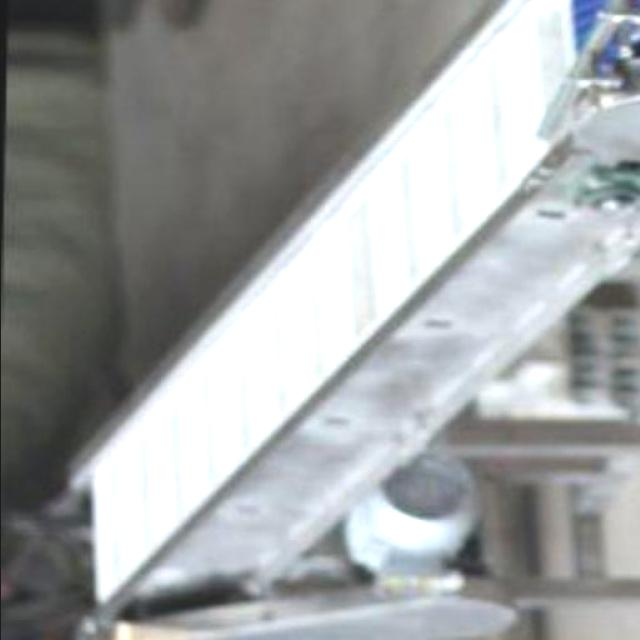conveyor: (84, 0, 577, 597)
